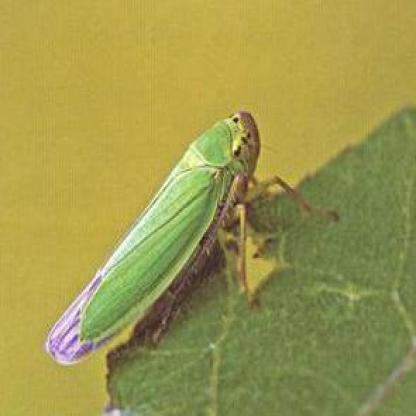Green-Leafhopper: (46, 107, 338, 382)
